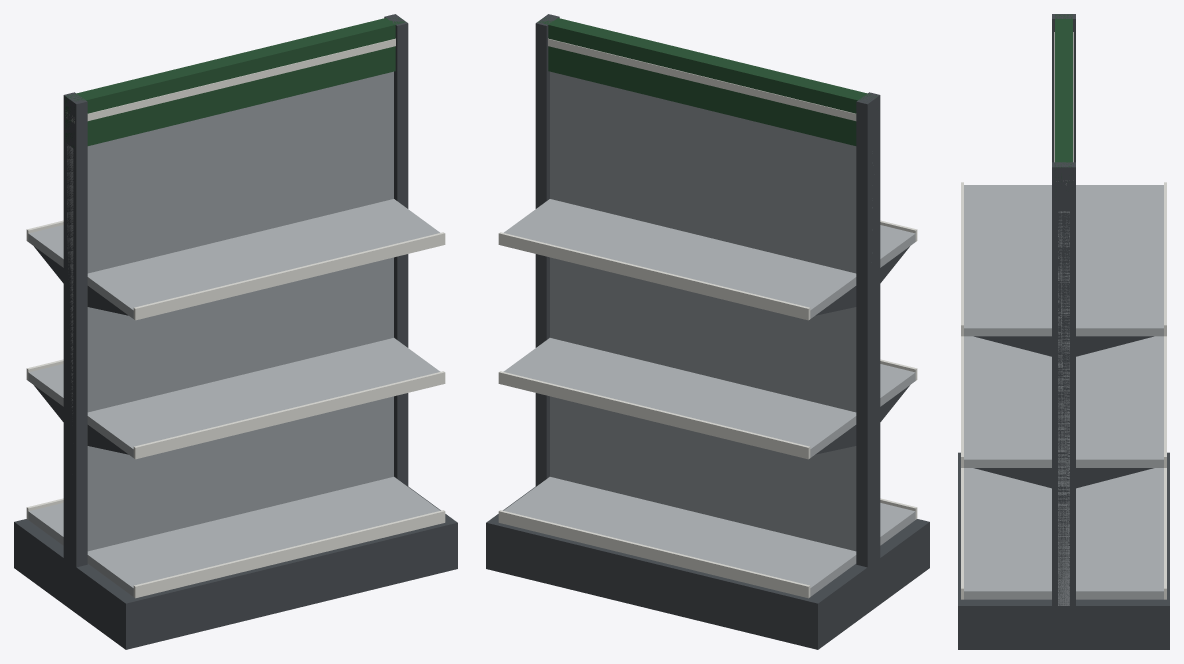
File: rayon.glb
3 views of the same model, side by side, from view 1: azimuth 30°, elevation 25°; view 2: azimuth 150°, elevation 25°; view 3: azimuth 270°, elevation 25° (orthographic). The views are drawn at different scales.
Visible parts, largest first — view 1: back, shelves, base, uprights, header, strips, band, bracket_b; view 2: back, shelves, base, uprights, header, strips, band, bracket; view 3: shelves, base, uprights, back, header, strips, bracket_r, bracket_rb.
Boxes of the visible parts, <box> form: back: <box>67,71,393,551</box>; shelves: <box>28,199,440,596</box>; base: <box>14,486,457,649</box>; uprights: <box>63,14,408,567</box>; header: <box>65,17,405,149</box>; strips: <box>26,220,445,598</box>; band: <box>66,38,395,123</box>; bracket_b: <box>87,286,128,454</box>; back: <box>550,71,872,551</box>; shelves: <box>503,199,915,596</box>; base: <box>486,486,929,649</box>; uprights: <box>535,14,880,567</box>; header: <box>538,17,876,145</box>; strips: <box>498,220,917,598</box>; band: <box>548,38,856,120</box>; bracket: <box>815,286,856,454</box>; shelves: <box>964,185,1163,599</box>; base: <box>958,452,1169,649</box>; uprights: <box>1052,14,1075,605</box>; back: <box>1058,211,1069,605</box>; header: <box>1055,14,1072,187</box>; strips: <box>961,182,1166,599</box>; bracket_r: <box>1076,336,1153,488</box>; bracket_rb: <box>974,336,1051,488</box>.
Bounding box in the file's own units: 1.2 × 1.76 × 0.7.
5 materials, 5 textured.
